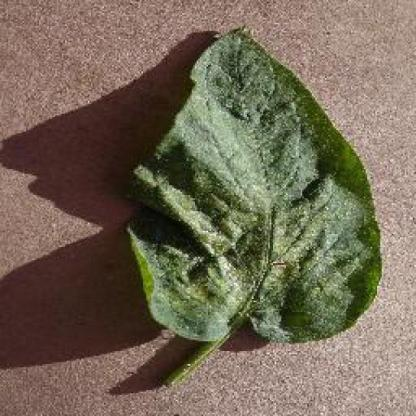Tomato_Spider_Mites: (131, 29, 379, 341)
